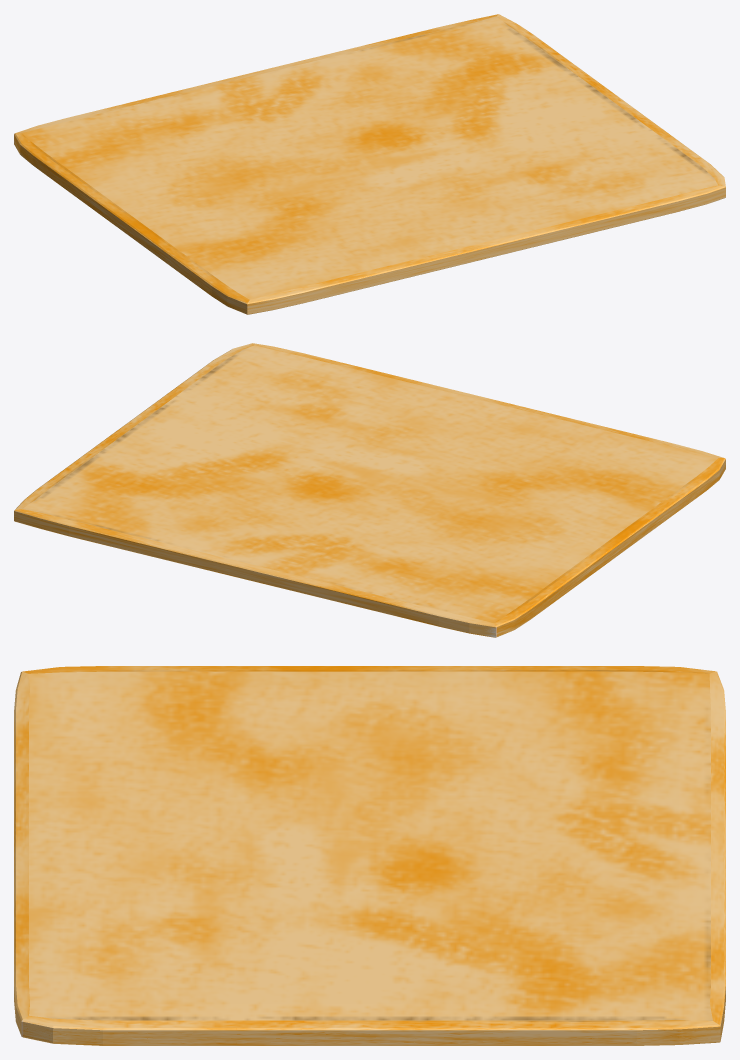
Rendered from cheese.obj.
3 views of the same model, one above another, from view 1: azimuth 30°, elevation 25°; view 2: azimuth 150°, elevation 25°; view 3: azimuth 270°, elevation 25° (orthographic). The views are drawn at different scales.
Visible parts, largest first — view 1: Cube.004; view 2: Cube.004; view 3: Cube.004.
Boxes of the visible parts, x1,y1,x2,y2 form: Cube.004: (14, 14, 725, 314); Cube.004: (14, 343, 725, 637); Cube.004: (14, 666, 725, 1045).
Bounding box in the file's own units: 2.18 × 0.0574 × 1.8.
